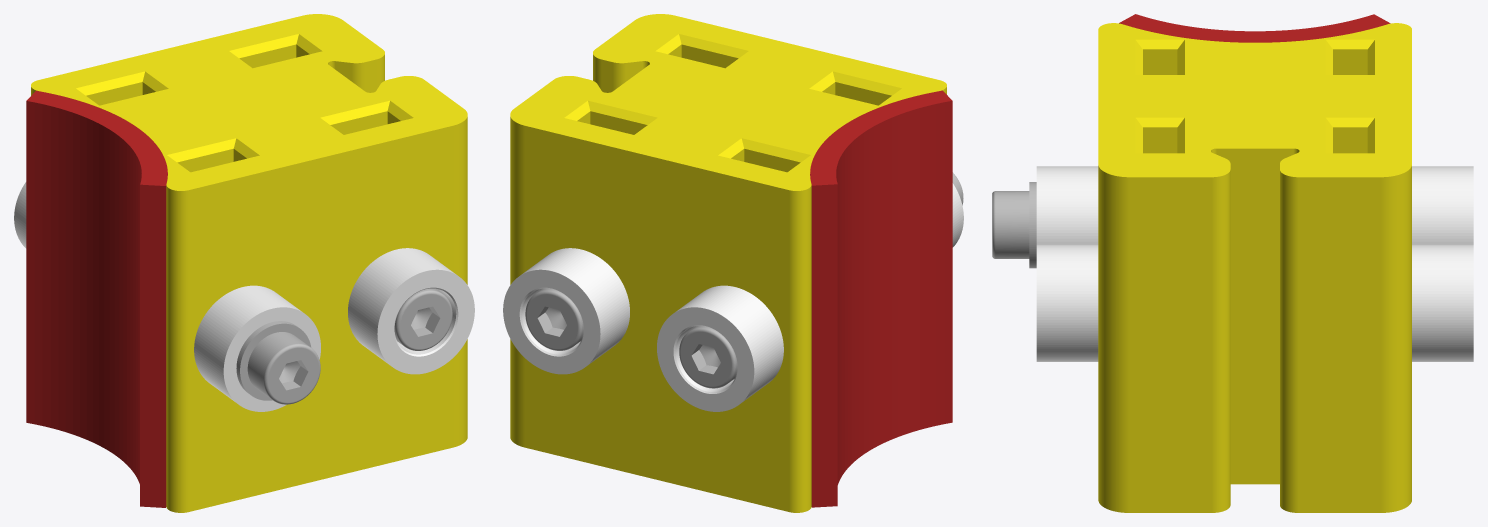
File: slider_unit_ass_block.glb
3 views of the same model, side by side, from view 1: azimuth 30°, elevation 25°; view 2: azimuth 150°, elevation 25°; view 3: azimuth 270°, elevation 25° (orthographic). The views are drawn at different scales.
Visible parts, largest first — view 1: Node1, Node4, Node2, Node3; view 2: Node1, Node4, Node2, Node3; view 3: Node1, Node2, Node4, Node3.
Boxes of the visible parts, <box> form: Node1: <box>31,14,467,512</box>; Node4: <box>26,90,167,507</box>; Node2: <box>14,182,474,411</box>; Node3: <box>236,288,452,404</box>; Node1: <box>510,14,946,512</box>; Node4: <box>810,90,952,507</box>; Node2: <box>503,183,963,411</box>; Node3: <box>525,172,963,388</box>; Node1: <box>1098,23,1411,512</box>; Node2: <box>1036,166,1473,361</box>; Node4: <box>1119,14,1390,42</box>; Node3: <box>992,182,1036,268</box>.
Size of the model in its own units: 31.27 by 30 by 39.
